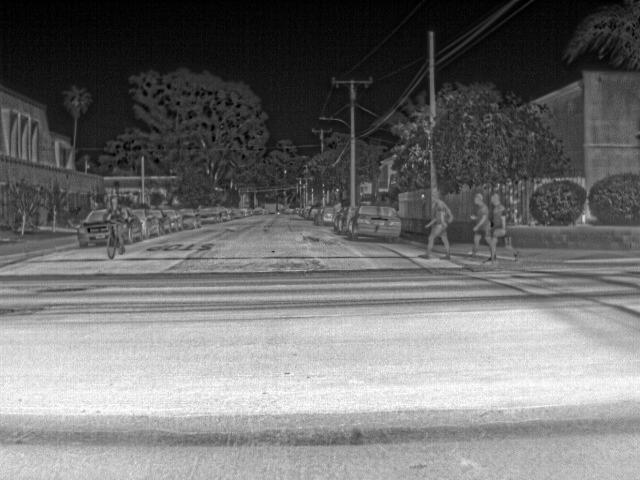car: (76, 206, 143, 248), (347, 203, 402, 243), (129, 207, 159, 239), (334, 204, 357, 236), (161, 207, 182, 231), (313, 206, 336, 227), (194, 205, 219, 223), (153, 206, 169, 234), (180, 207, 199, 229), (218, 205, 230, 223), (306, 206, 320, 220), (227, 206, 240, 220), (265, 202, 277, 214), (298, 207, 310, 218), (252, 205, 264, 216), (239, 207, 249, 218), (281, 207, 289, 217), (293, 205, 299, 216), (288, 208, 295, 216)
person: (417, 192, 455, 259), (483, 192, 519, 262), (469, 191, 492, 258), (105, 196, 129, 230)
